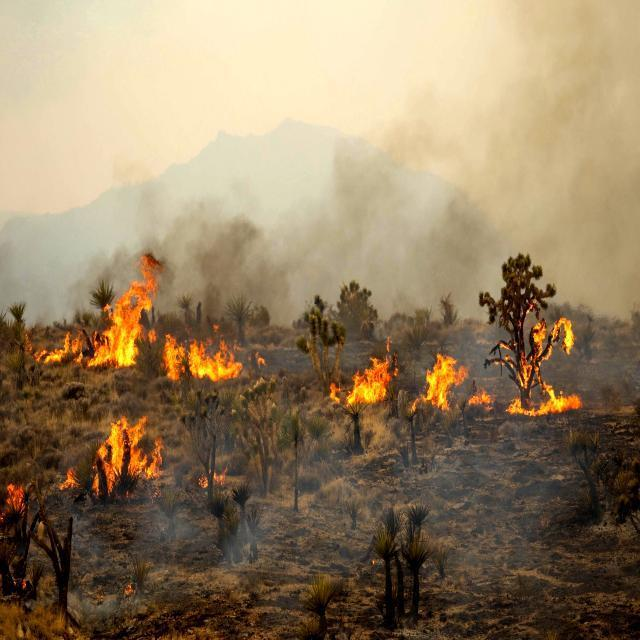Fire: (35, 258, 241, 373), (510, 311, 588, 415), (90, 414, 168, 495), (418, 351, 488, 412), (337, 348, 399, 408), (56, 456, 79, 493)
Smoke: (0, 0, 638, 324)
